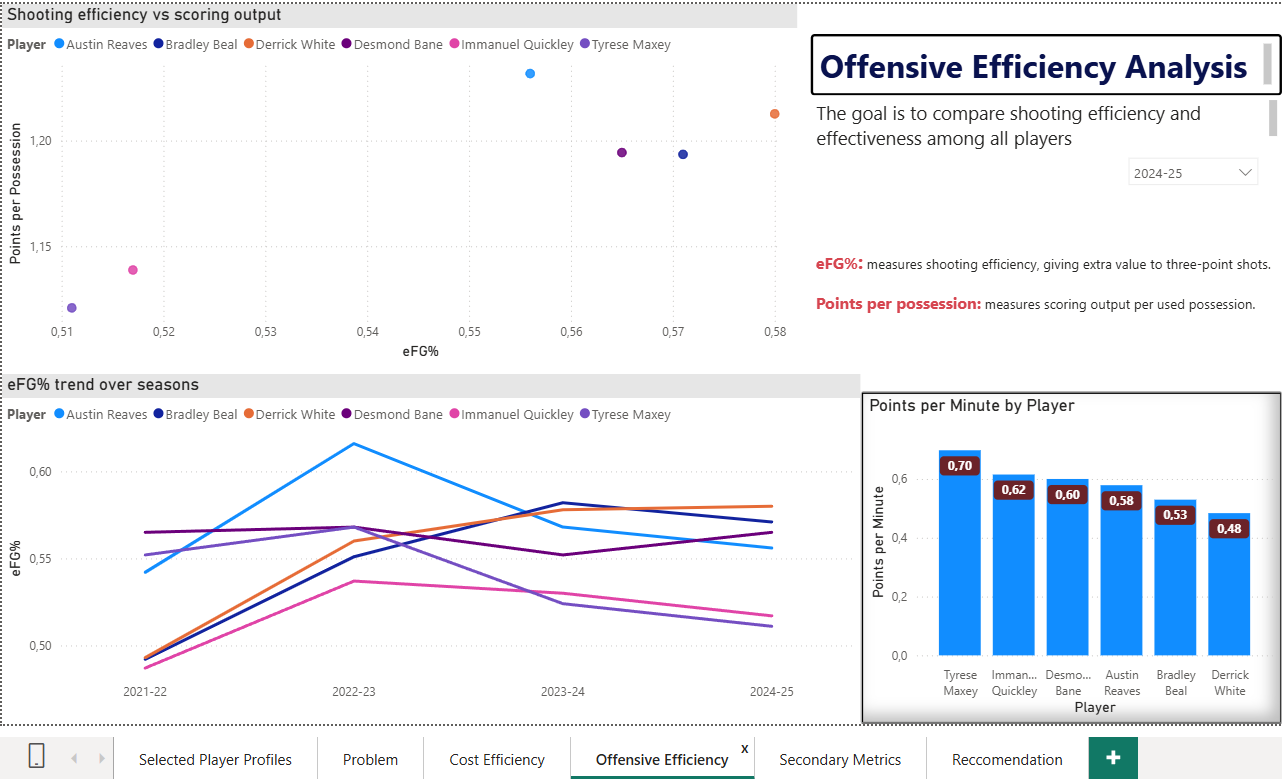

Layout of this report page (visuals, bound fields, positions):
{"tool":"powerbi","page":{"name":"Offensive Efficiency","canvas":[1280,720],"ordinal":3},"visuals":[{"type":"scatterChart","title":"Shooting efficiency vs scoring output","fields":{"X":["Sum(NBA_stats.eFG%)"],"Y":["NBA_salaries.Punti per Possesso"],"Series":["NBA_salaries.Player"]},"box":[0,0,795,360],"z":0},{"type":"slicer","fields":{"Values":["NBA_salaries.Season"]},"box":[1116.7,125.6,150,70],"z":1000},{"type":"clusteredColumnChart","title":"Points per Minute by Player","fields":{"Category":["NBA_salaries.Player"],"Y":["NBA_salaries.Punti per Minuto"]},"box":[858.6,387.1,421.4,332.9],"z":2000},{"type":"lineChart","title":"eFG% trend over seasons","fields":{"Category":["Seasons.Season"],"Y":["Sum(NBA_stats.eFG%)"],"Series":["NBA_salaries.Player"]},"box":[0,370,858.6,350],"z":3000},{"type":"textbox","box":[808.6,30,471.4,61.4],"z":4000},{"type":"textbox","box":[809,91,471,59],"z":5000},{"type":"textbox","box":[808.3,240,471.7,86.7],"z":6000}]}

Visuals, with their boxes on the page's 1280x720 design canvas (x1, y1, x2, y2). These are canvas units, not pixel positions in the 1282x779 screenshot, which may show the page scaled, cropped or inside an application window:
"Shooting efficiency vs scoring output" scatterChart: pyautogui.locateOnScreen(0, 0, 795, 360)
slicer - NBA_salaries.Season: pyautogui.locateOnScreen(1117, 126, 1267, 196)
"Points per Minute by Player" clusteredColumnChart: pyautogui.locateOnScreen(859, 387, 1280, 720)
"eFG% trend over seasons" lineChart: pyautogui.locateOnScreen(0, 370, 859, 720)
textbox: pyautogui.locateOnScreen(809, 30, 1280, 91)
textbox: pyautogui.locateOnScreen(809, 91, 1280, 150)
textbox: pyautogui.locateOnScreen(808, 240, 1280, 327)
